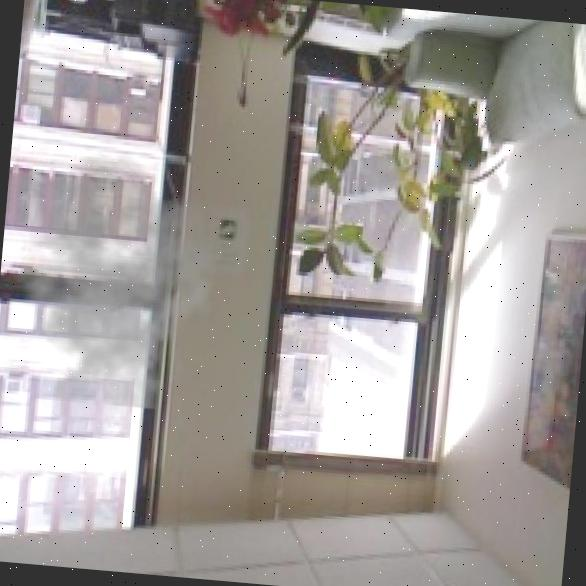smoke: (0, 144, 234, 414)
